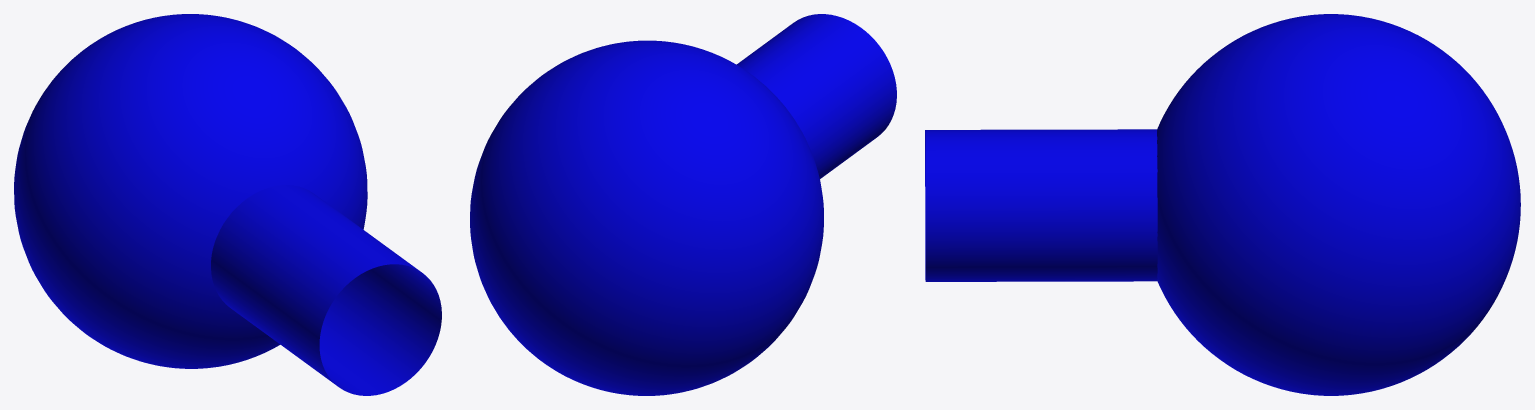
File: HIDROGENO2.fbx
3 renders of one model, left to right at view 1: azimuth 30°, elevation 25°; view 2: azimuth 150°, elevation 25°; view 3: azimuth 270°, elevation 25°, orthographic. The views are drawn at different scales.
Parts seen in each view (by area): view 1: Mesh.002; view 2: Mesh.002; view 3: Mesh.002.
Boxes of the visible parts, x1,y1,x2,y2 form: Mesh.002: (14,14,441,395); Mesh.002: (470,14,896,395); Mesh.002: (925,14,1520,395).
Bounding box in the file's own units: 281 × 282 × 440.
